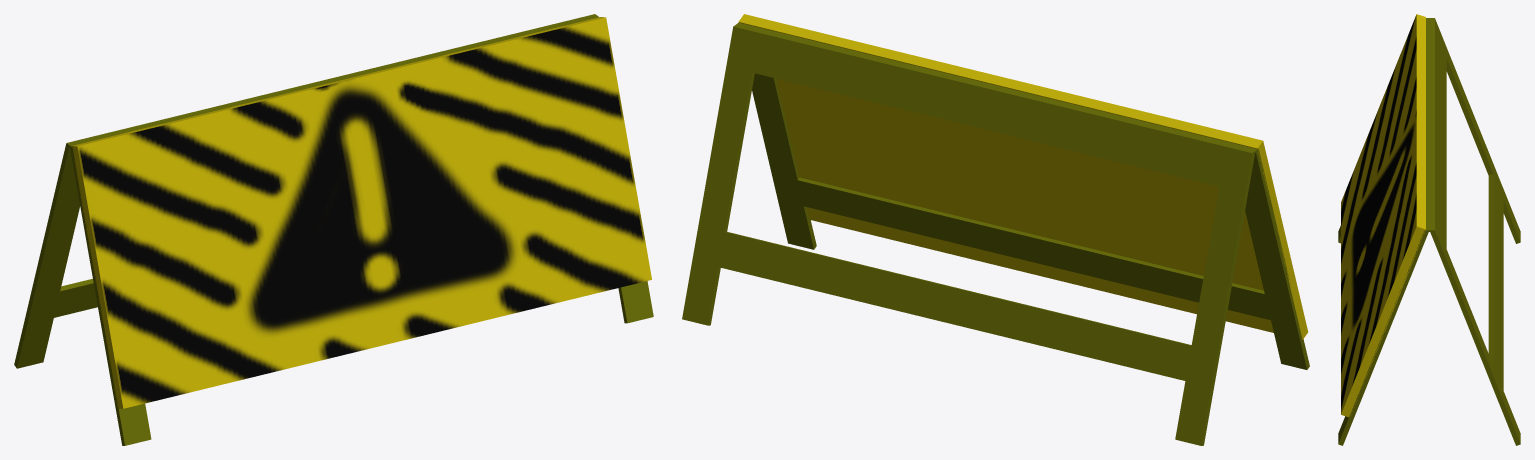
File: Obstruction.obj
3 renders of one model, left to right at view 1: azimuth 30°, elevation 25°; view 2: azimuth 150°, elevation 25°; view 3: azimuth 270°, elevation 25°, orthographic. The views are drawn at different scales.
Parts seen in each view (by area): view 1: Board, Obstruction; view 2: Obstruction, Board; view 3: Board, Obstruction.
Part boxes in pixels (x1,y1,x2,y2): Board: (71, 17, 651, 408); Obstruction: (14, 14, 653, 445); Obstruction: (682, 22, 1309, 445); Board: (738, 14, 1307, 339); Board: (1341, 14, 1425, 417); Obstruction: (1338, 18, 1520, 445).
Size of the model in its own units: 20 by 9.64 by 7.27.
